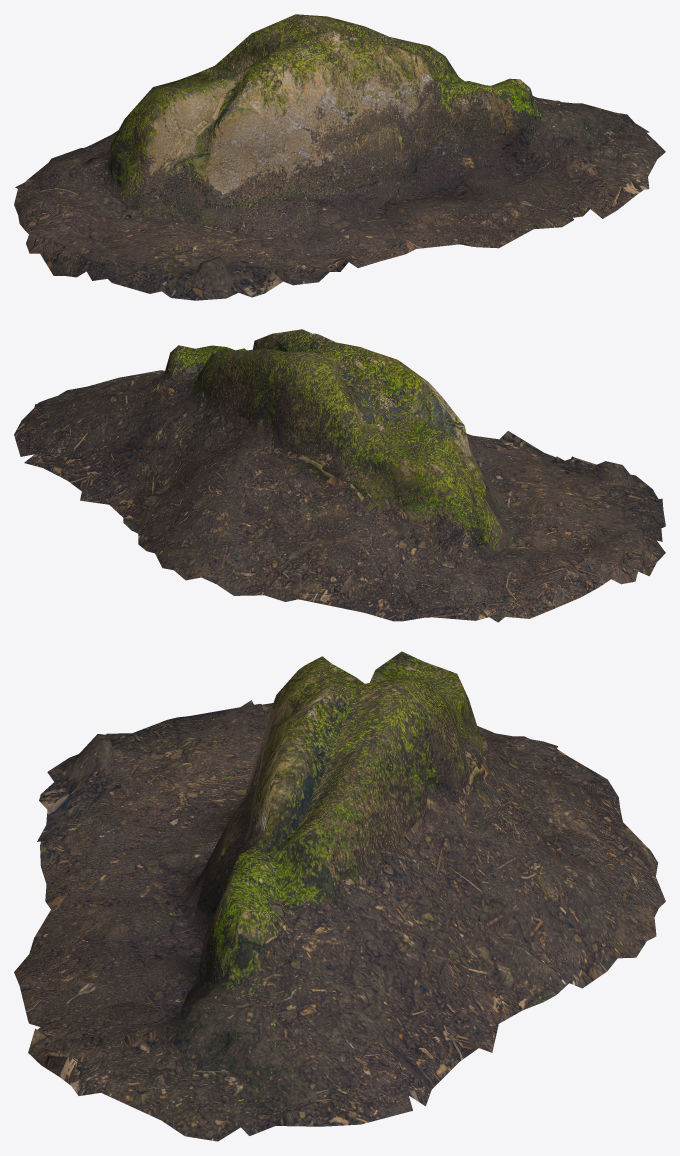
File: PX_Mossy_Rock_05_LOD5.fbx
3 views of the same model, one above another, from view 1: azimuth 30°, elevation 25°; view 2: azimuth 150°, elevation 25°; view 3: azimuth 270°, elevation 25° (orthographic). The views are drawn at different scales.
Visible parts, largest first — view 1: PX_Mossy_Rock_05_LOD5; view 2: PX_Mossy_Rock_05_LOD5; view 3: PX_Mossy_Rock_05_LOD5.
Boxes of the visible parts, left/top/right/bottom form: PX_Mossy_Rock_05_LOD5: left=14, top=14, right=665, bottom=300; PX_Mossy_Rock_05_LOD5: left=14, top=329, right=665, bottom=622; PX_Mossy_Rock_05_LOD5: left=14, top=651, right=665, bottom=1141.
Bounding box in the file's own units: 105 × 27.87 × 66.69.
